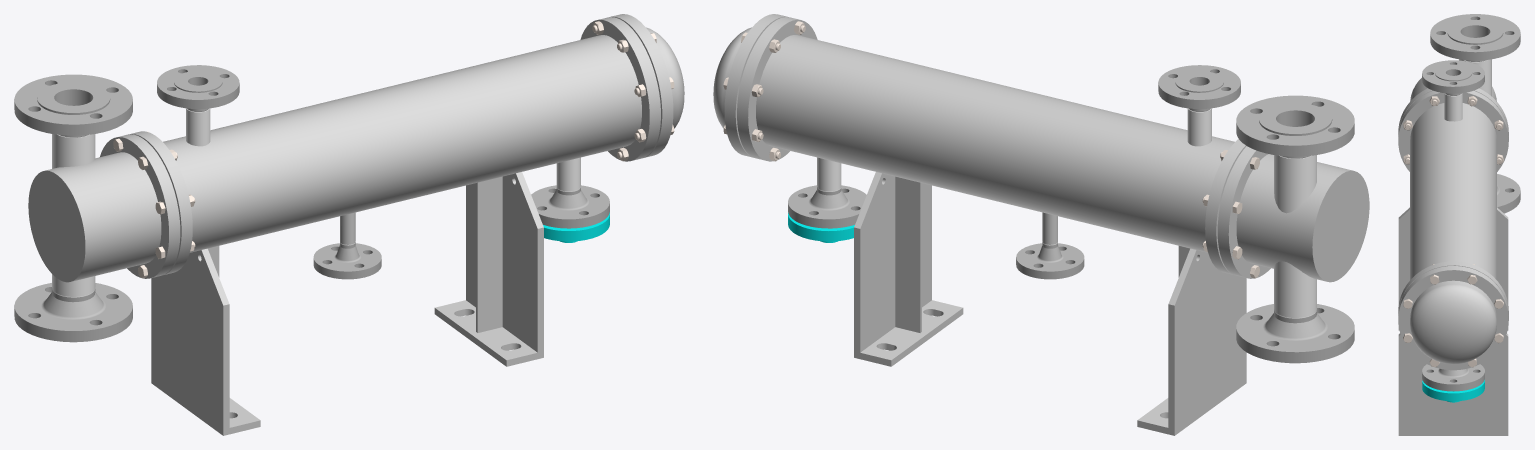
Rendered from 换热器.obj.
3 renders of one model, left to right at view 1: azimuth 30°, elevation 25°; view 2: azimuth 150°, elevation 25°; view 3: azimuth 270°, elevation 25°, orthographic. The views are drawn at different scales.
Parts seen in each view (by area): view 1: BRep_2, BRep_1_1, BRep_1_2, BRep_1_3, BRep_1_4, BRep_1_9, BRep_1_7, BRep_1_10, BRep_1_6, BRep_1_5, BRep_1_8; view 2: BRep_2, BRep_1_1, BRep_1_2, BRep_1_3, BRep_1_4, BRep_1_9, BRep_1_7, BRep_1_8, BRep_1_10, BRep_1_6, BRep_1_5; view 3: BRep_2, BRep_1_1, BRep_1_3, BRep_1_4, BRep_1_2, BRep_1_10, BRep_1_6, BRep_1_7.
Part boxes in pixels (x1,y1,x2,y2): BRep_2: (28, 14, 684, 435); BRep_1_1: (14, 74, 132, 137); BRep_1_2: (14, 283, 132, 342); BRep_1_3: (157, 65, 239, 111); BRep_1_4: (531, 185, 609, 228); BRep_1_9: (313, 242, 381, 279); BRep_1_7: (52, 134, 95, 168); BRep_1_10: (543, 212, 609, 242); BRep_1_6: (186, 108, 210, 146); BRep_1_5: (556, 157, 580, 191); BRep_1_8: (52, 274, 95, 296); BRep_2: (713, 14, 1369, 435); BRep_1_1: (1236, 95, 1354, 158); BRep_1_2: (1236, 304, 1354, 363); BRep_1_3: (1158, 65, 1240, 111); BRep_1_4: (788, 185, 866, 228); BRep_1_9: (1016, 242, 1084, 279); BRep_1_7: (1274, 155, 1316, 213); BRep_1_8: (1274, 261, 1316, 317); BRep_1_10: (788, 213, 854, 242); BRep_1_6: (1187, 108, 1211, 146); BRep_1_5: (817, 157, 841, 191); BRep_2: (1398, 78, 1508, 435); BRep_1_1: (1430, 14, 1520, 61); BRep_1_3: (1422, 60, 1484, 95); BRep_1_4: (1422, 364, 1484, 391); BRep_1_2: (1497, 174, 1520, 213); BRep_1_10: (1422, 380, 1484, 402); BRep_1_6: (1444, 93, 1462, 121); BRep_1_7: (1459, 59, 1491, 96).
Size of the model in its own units: 1020 by 500 by 223.
